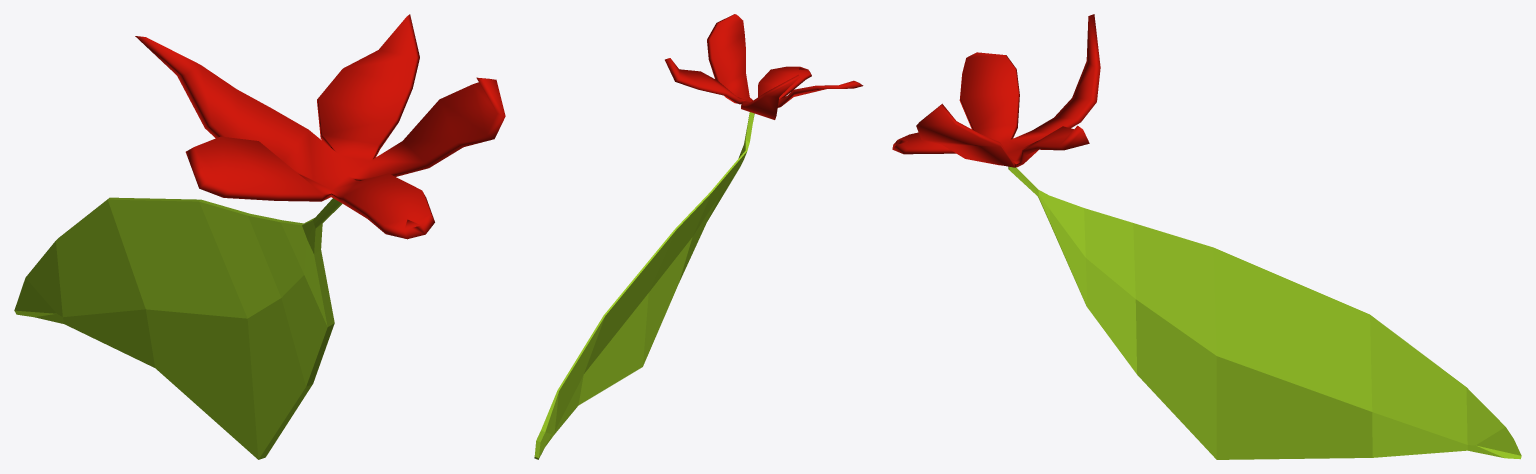
File: plantLeaf.obj
The picture shows the model from 3 angles, left to right: view 1: azimuth 30°, elevation 25°; view 2: azimuth 150°, elevation 25°; view 3: azimuth 270°, elevation 25°; orthographic projection. The views are drawn at different scales.
Visible parts, largest first — view 1: Plane.002, Sphere; view 2: Plane.002, Sphere; view 3: Plane.002, Sphere.
Boxes of the visible parts, bbox=[...] form: Plane.002: bbox=[14, 197, 342, 459]; Sphere: bbox=[135, 14, 505, 239]; Plane.002: bbox=[534, 112, 754, 459]; Sphere: bbox=[665, 14, 863, 119]; Plane.002: bbox=[1008, 166, 1521, 459]; Sphere: bbox=[892, 14, 1100, 167].
Bounding box in the file's own units: 0.9443 × 1.68 × 2.53.
